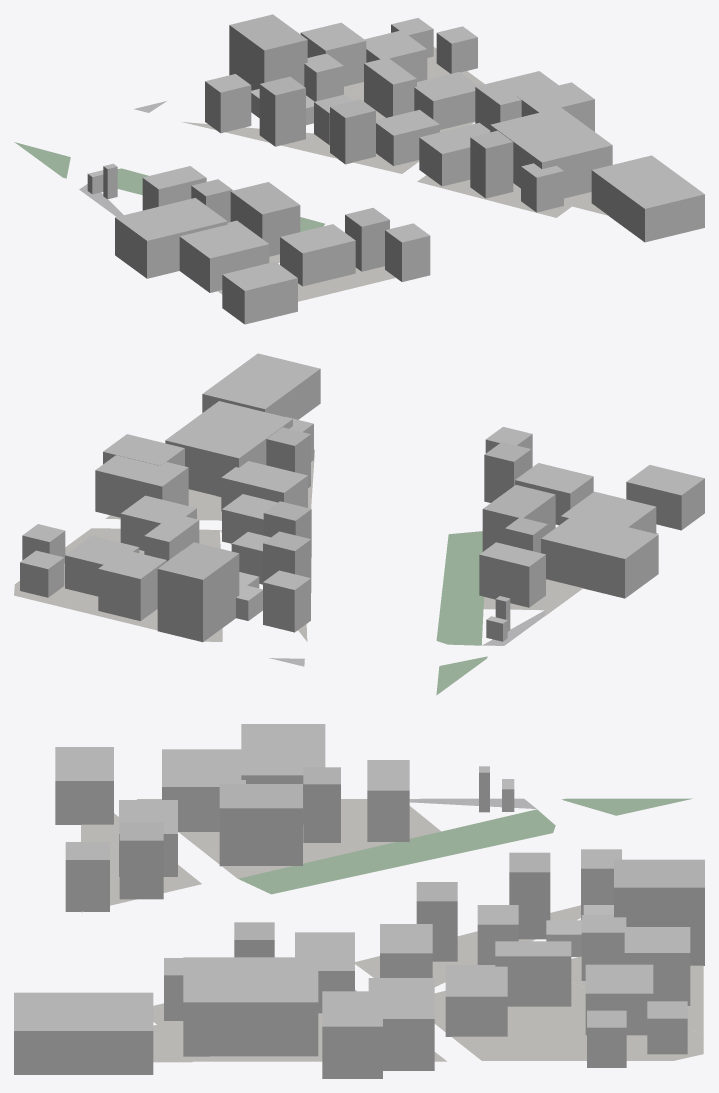
The model's file is 106_106_mid.glb.
3 renders of one model, top to bottom at view 1: azimuth 30°, elevation 25°; view 2: azimuth 150°, elevation 25°; view 3: azimuth 270°, elevation 25°, orthographic. The views are drawn at different scales.
Bounding box in the file's own units: 581 × 70.97 × 555.
